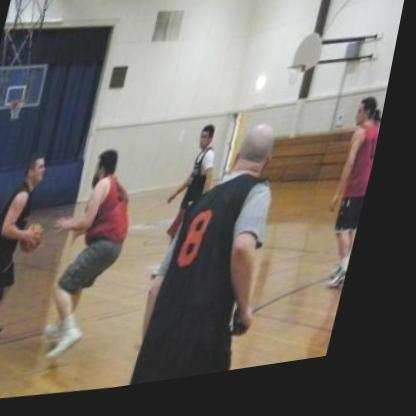basketball: (24, 220, 58, 255)
